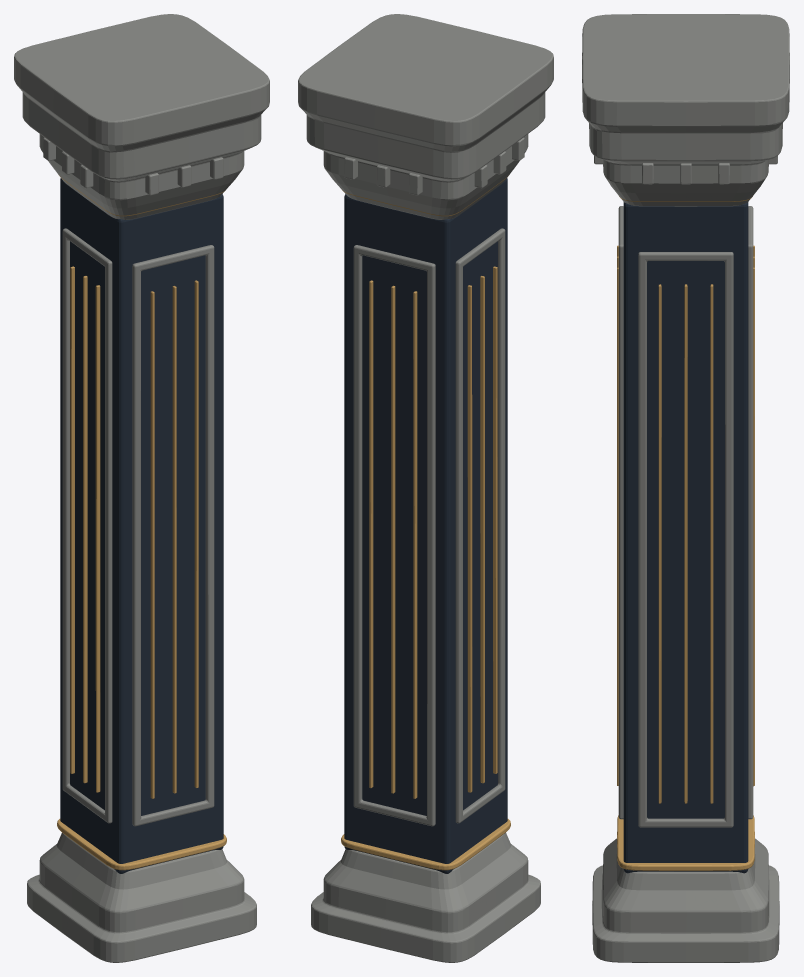
File: DM_Environment_Museum_Pillar_A.fbx
3 renders of one model, left to right at view 1: azimuth 30°, elevation 25°; view 2: azimuth 150°, elevation 25°; view 3: azimuth 270°, elevation 25°, orthographic. The views are drawn at different scales.
Parts seen in each view (by area): view 1: DM_Environment_Museum_Pillar_A_Delivery_Opaque; view 2: DM_Environment_Museum_Pillar_A_Delivery_Opaque; view 3: DM_Environment_Museum_Pillar_A_Delivery_Opaque.
Boxes of the visible parts, box(x1,y1,x2,y2) form: DM_Environment_Museum_Pillar_A_Delivery_Opaque: box(14, 14, 269, 962); DM_Environment_Museum_Pillar_A_Delivery_Opaque: box(298, 14, 553, 962); DM_Environment_Museum_Pillar_A_Delivery_Opaque: box(582, 14, 789, 962).
Bounding box in the file's own units: 0.6 × 2.76 × 0.6.
